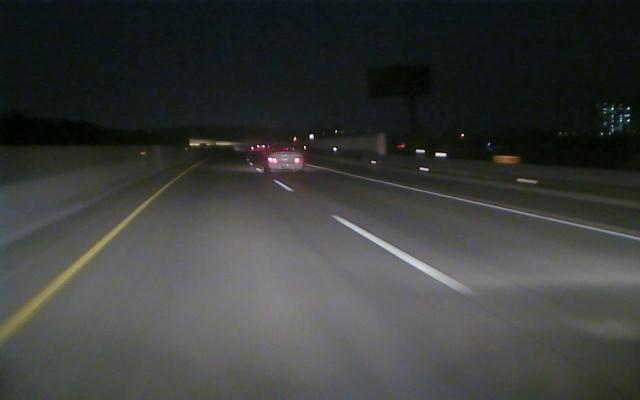lane: (3, 188, 163, 345), (310, 166, 637, 241), (275, 180, 475, 296)
